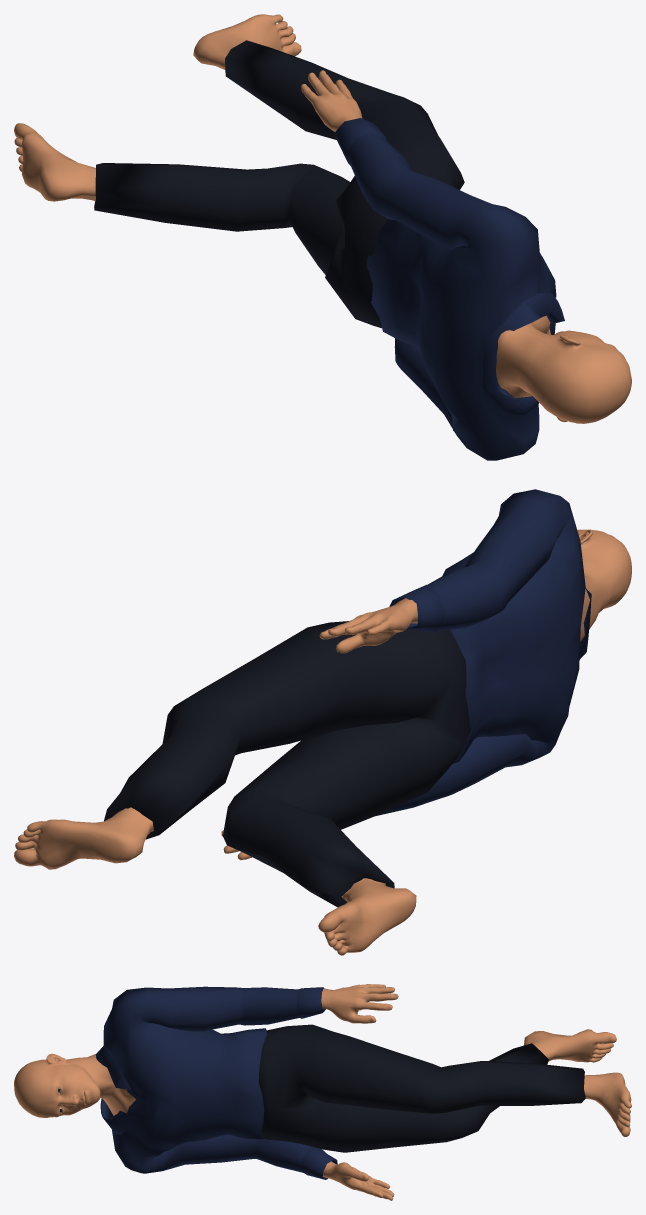
File: walk.obj
3 views of the same model, one above another, from view 1: azimuth 30°, elevation 25°; view 2: azimuth 150°, elevation 25°; view 3: azimuth 270°, elevation 25° (orthographic). The views are drawn at different scales.
Size of the model in its own units: 0.7004 by 0.536 by 1.68.
